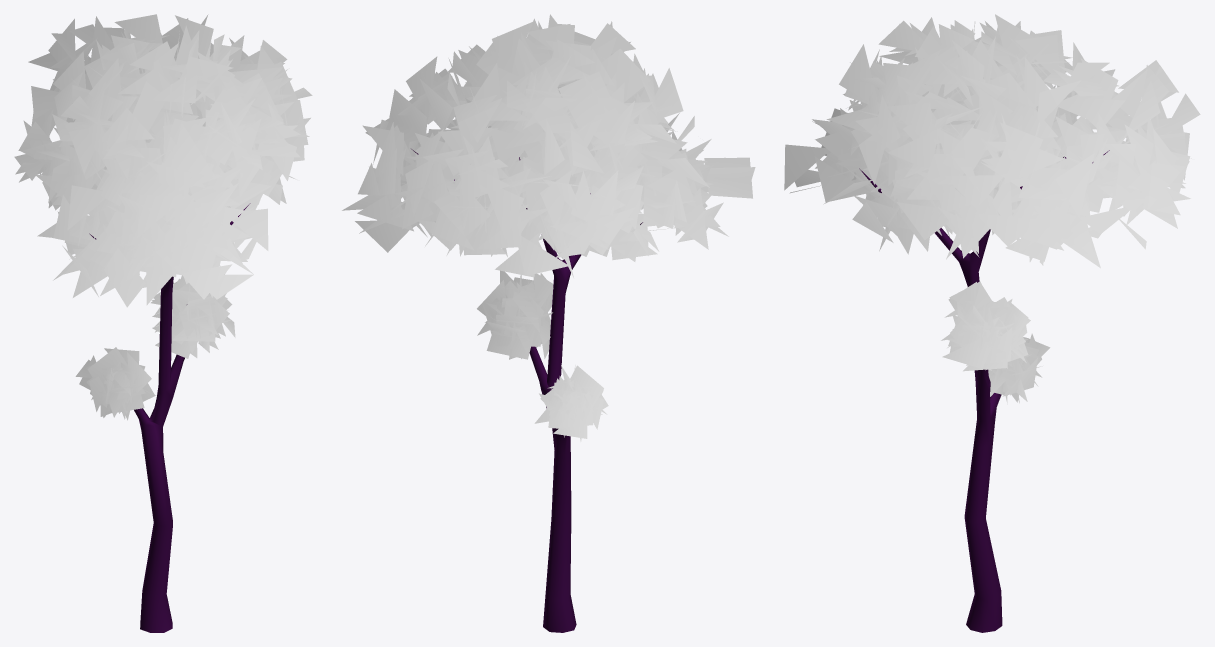
File: m_TreeHigh3_LOD1.fbx
3 renders of one model, left to right at view 1: azimuth 30°, elevation 25°; view 2: azimuth 150°, elevation 25°; view 3: azimuth 270°, elevation 25°, orthographic. The views are drawn at different scales.
Visible parts, largest first — view 1: TreeHigh3_LOD1; view 2: TreeHigh3_LOD1; view 3: TreeHigh3_LOD1.
Part boxes in pixels (left/top/right/bottom): TreeHigh3_LOD1: left=14, top=14, right=312, bottom=632; TreeHigh3_LOD1: left=342, top=14, right=755, bottom=632; TreeHigh3_LOD1: left=784, top=14, right=1200, bottom=632.
Bounding box in the file's own units: 1642 × 3245 × 2017.
